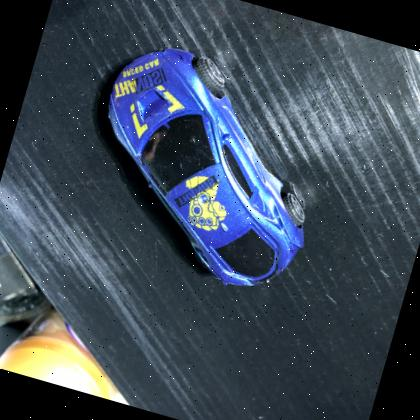Car: (108, 45, 305, 285)
